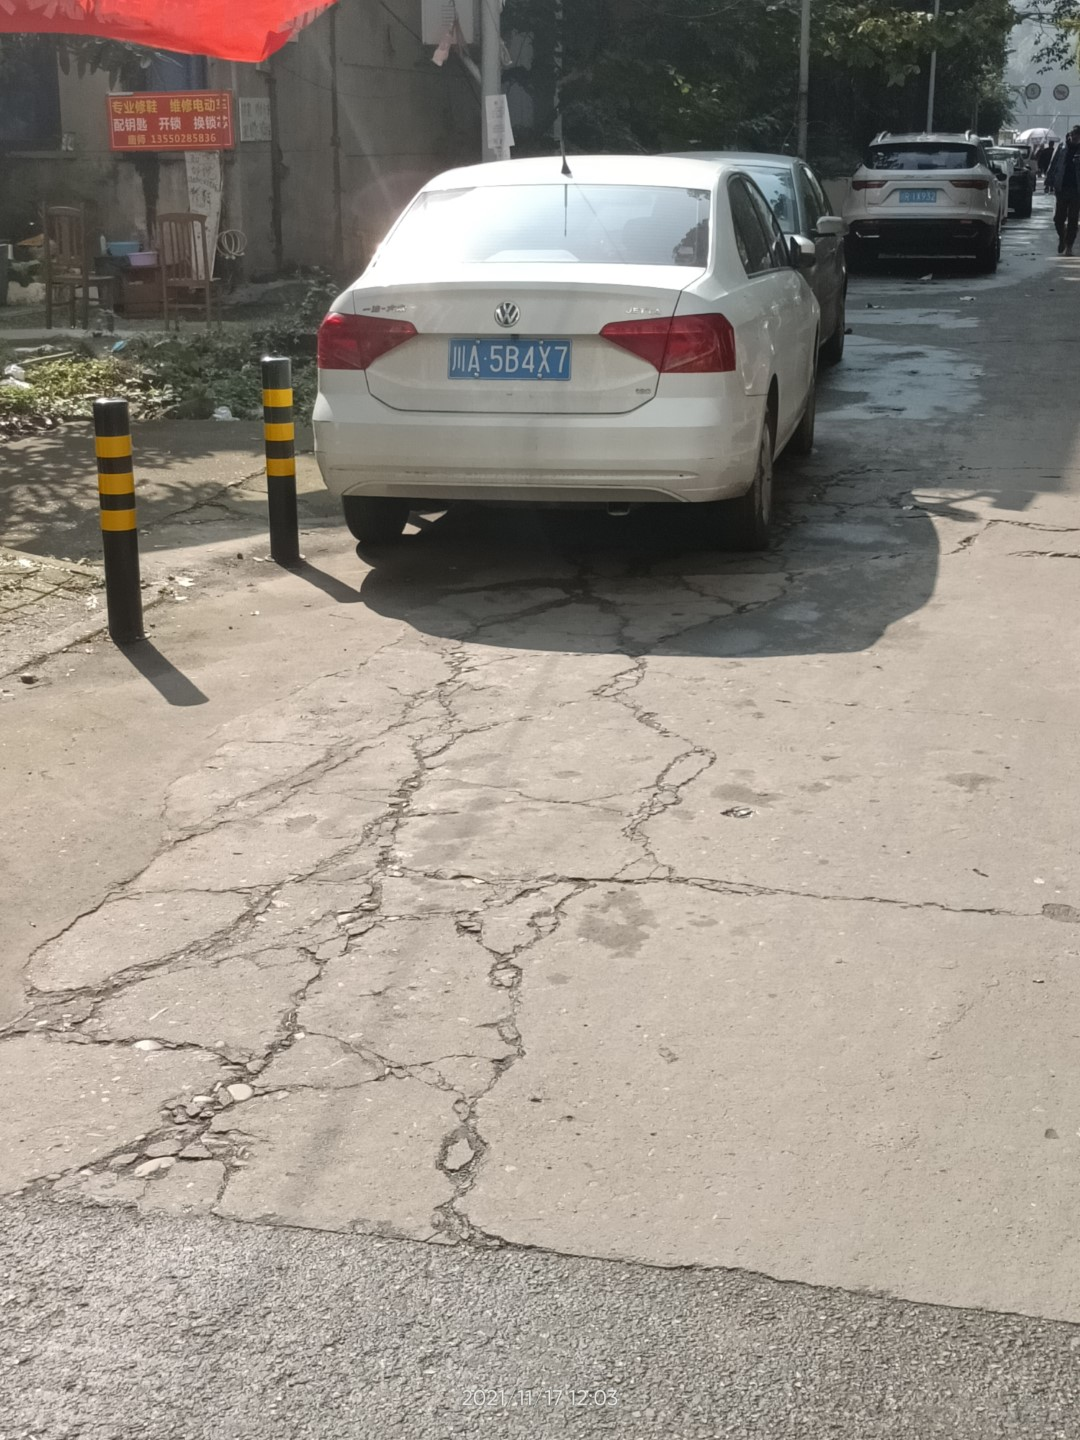plate: (446, 337, 571, 380)
